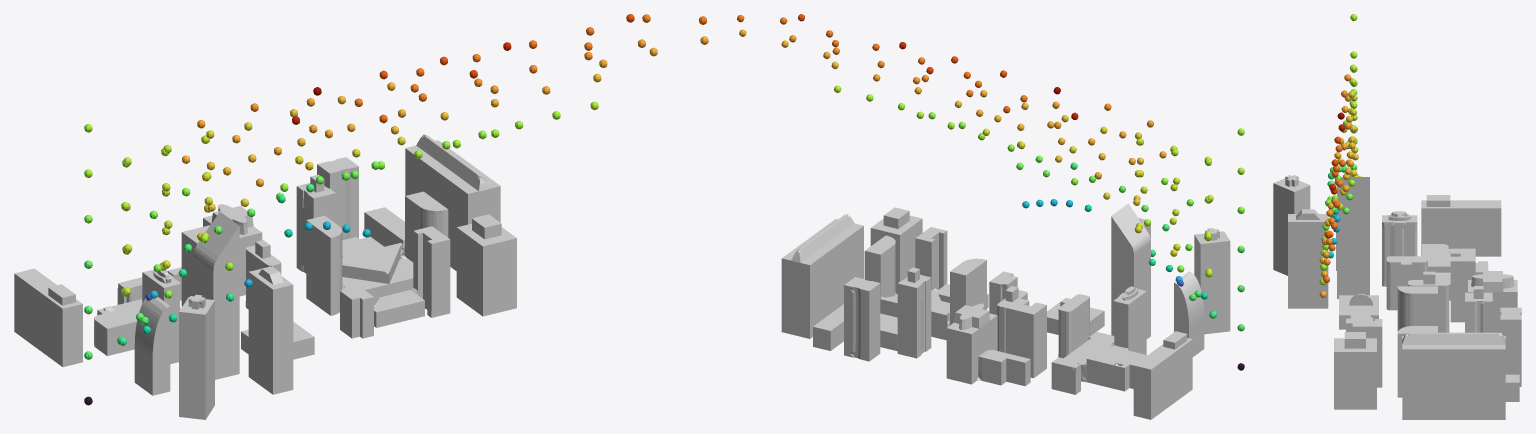
File: wab_partialAnim13.glb
The picture shows the model from 3 angles, left to right: view 1: azimuth 30°, elevation 25°; view 2: azimuth 150°, elevation 25°; view 3: azimuth 270°, elevation 25°; orthographic projection. The views are drawn at different scales.
Visible parts, largest first — view 1: mesh0, Renderer Node.012, Renderer Node.009, Renderer Node.010, Renderer Node.005, Renderer Node.004, Renderer Node.014; view 2: mesh0, Renderer Node.012, Renderer Node.009, Renderer Node.004, Renderer Node.010, Renderer Node.005, Renderer Node.011; view 3: mesh0, Renderer Node.004, Renderer Node.012, Renderer Node.009, Renderer Node.010, Renderer Node.011, Renderer Node.005, Renderer Node.006.
Part boxes in pixels (<box>): mesh0: <box>14,134,516,419</box>; Renderer Node.012: <box>84,47,657,359</box>; Renderer Node.009: <box>136,27,594,321</box>; Renderer Node.010: <box>117,36,708,343</box>; Renderer Node.005: <box>150,16,706,298</box>; Renderer Node.004: <box>145,14,650,300</box>; Renderer Node.014: <box>140,56,447,324</box>; mesh0: <box>781,203,1230,419</box>; Renderer Node.012: <box>781,40,1244,330</box>; Renderer Node.009: <box>826,30,1196,300</box>; Renderer Node.004: <box>780,17,1183,286</box>; Renderer Node.010: <box>739,29,1216,316</box>; Renderer Node.005: <box>737,15,1182,281</box>; Renderer Node.011: <box>798,14,1215,318</box>; mesh0: <box>1273,175,1521,419</box>; Renderer Node.004: <box>1319,95,1361,285</box>; Renderer Node.012: <box>1321,14,1356,277</box>; Renderer Node.009: <box>1320,81,1358,270</box>; Renderer Node.010: <box>1319,71,1357,297</box>; Renderer Node.011: <box>1324,68,1357,238</box>; Renderer Node.005: <box>1322,98,1357,283</box>; Renderer Node.006: <box>1327,91,1355,194</box>.
Size of what is drawn, in the model's own units: 2.34 by 1.04 by 1.01.
Materials: 14 (13 with a texture image).
